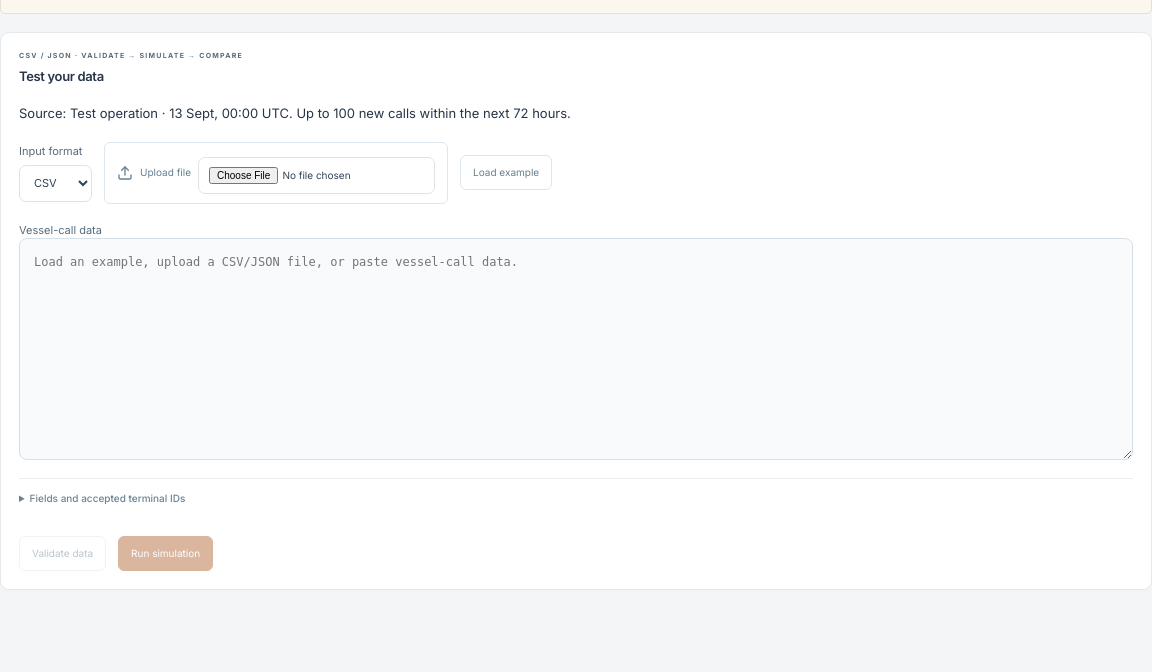
Test: loads a scoped example, validates it and submits to the simulation API
Click the button "Load example" at (506, 172), box [460, 155, 552, 190]
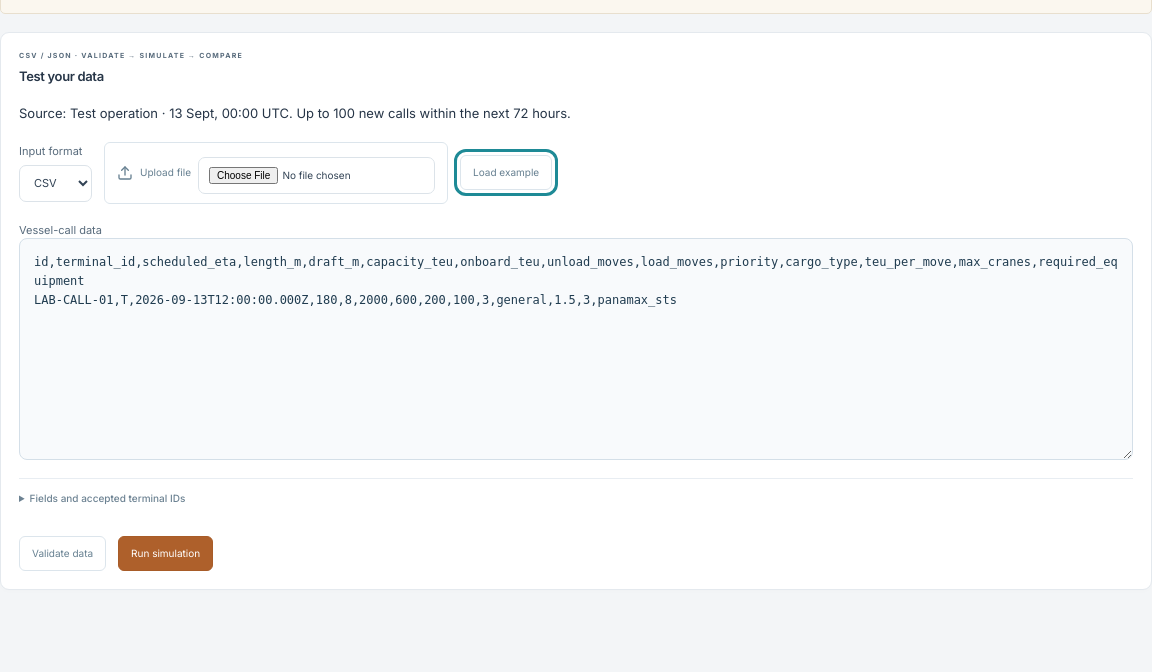
Click the button "Run simulation" at (166, 554), box [118, 536, 213, 571]
(page scrolled)
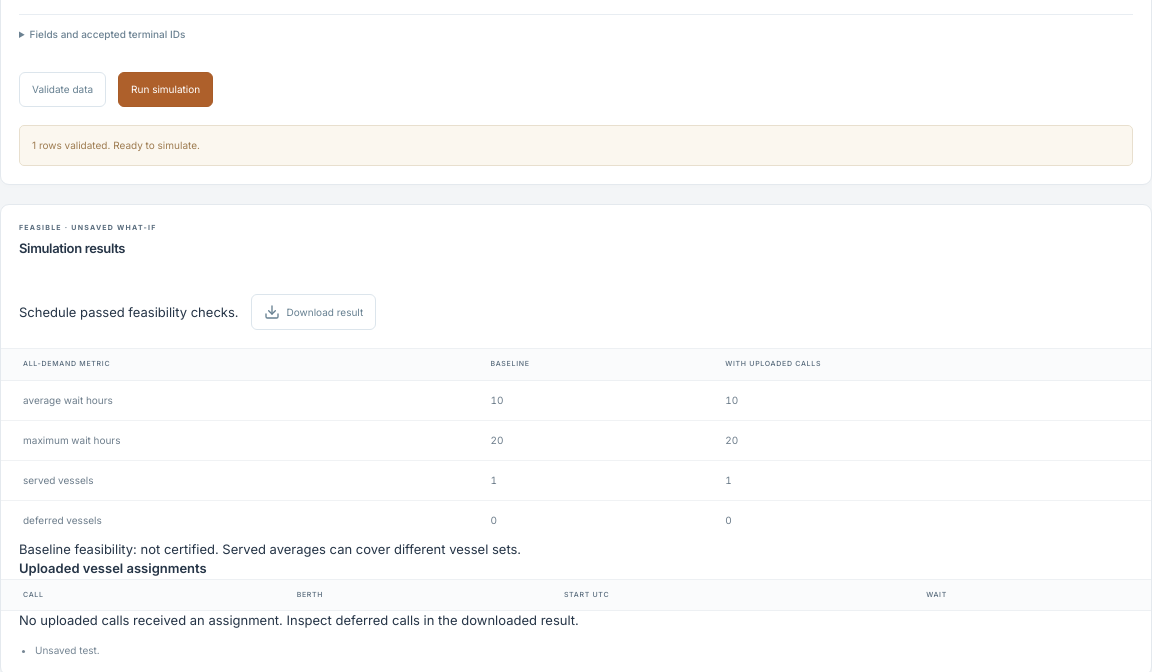
Check: the text "Schedule passed feasibility checks." is shown, box [19, 303, 239, 322]
